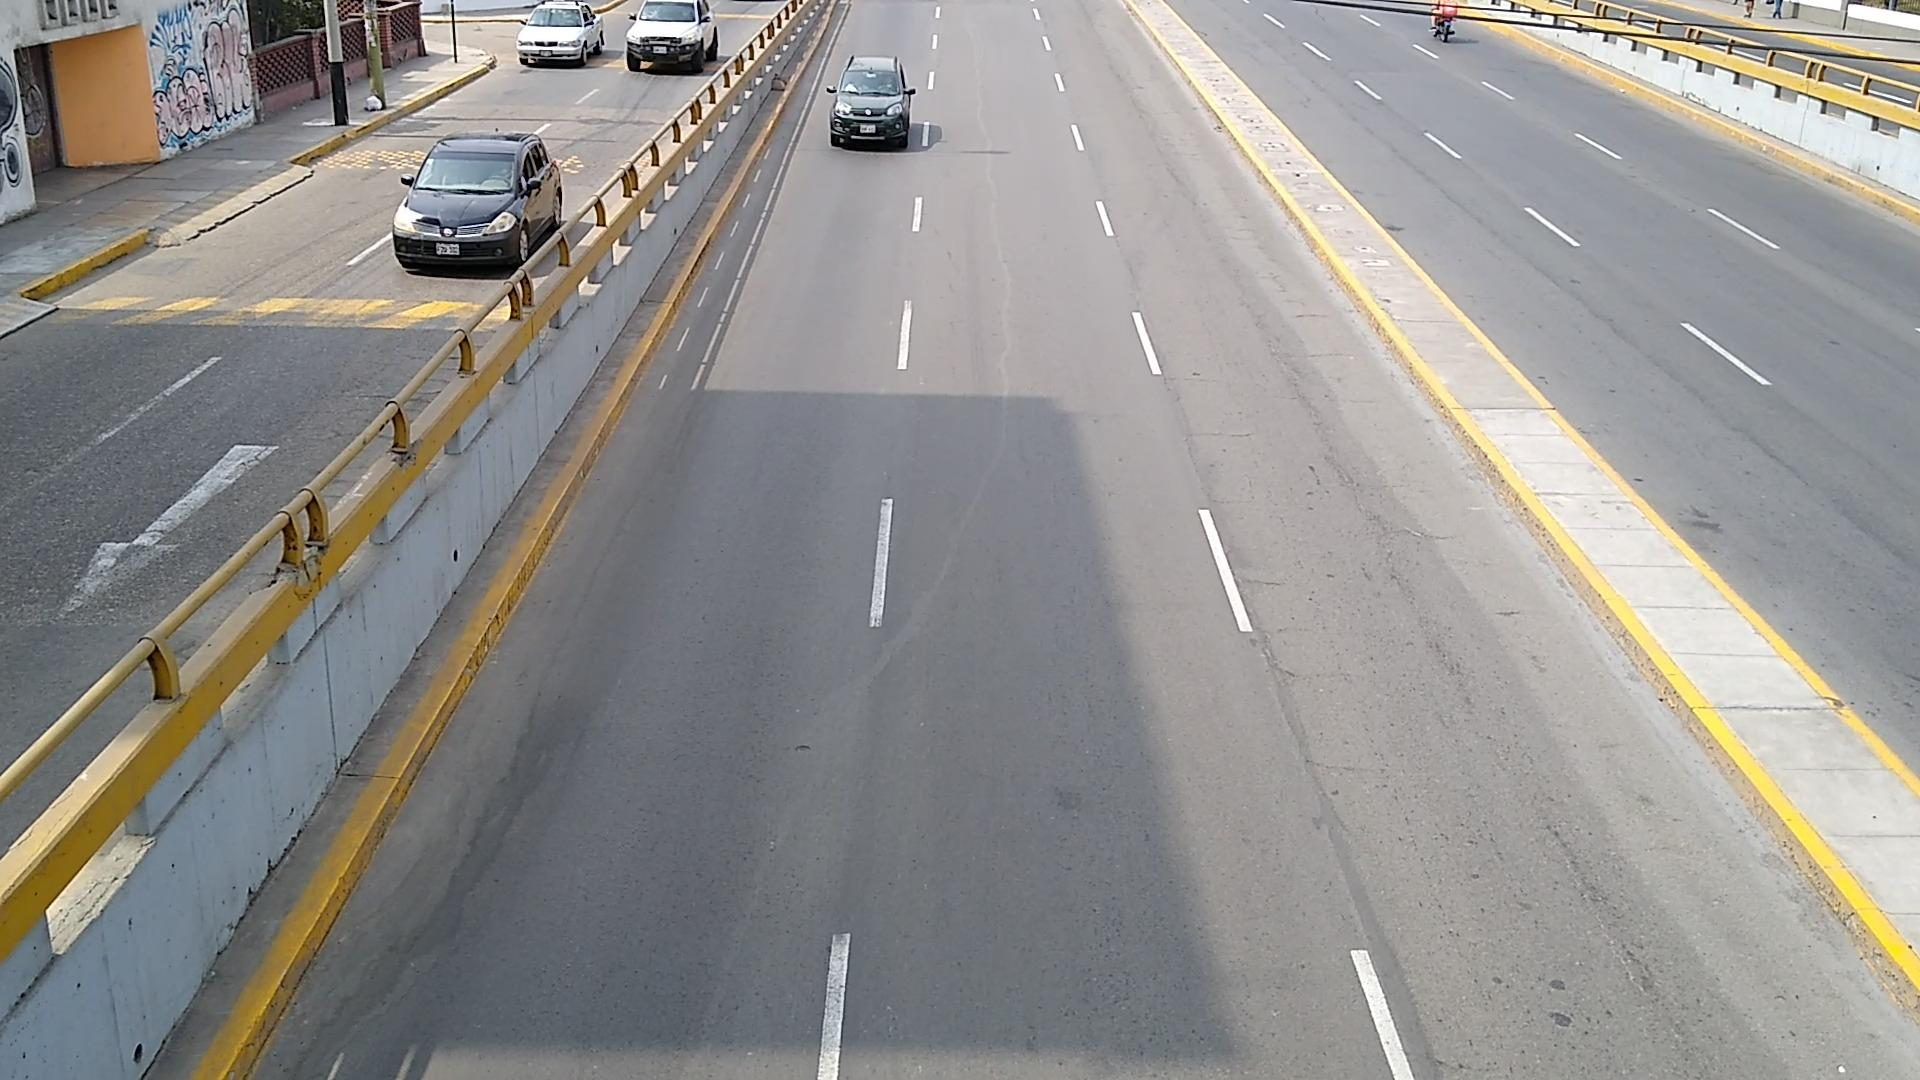car: (394, 131, 562, 270), (829, 56, 915, 148), (626, 0, 720, 71), (518, 0, 604, 64)
